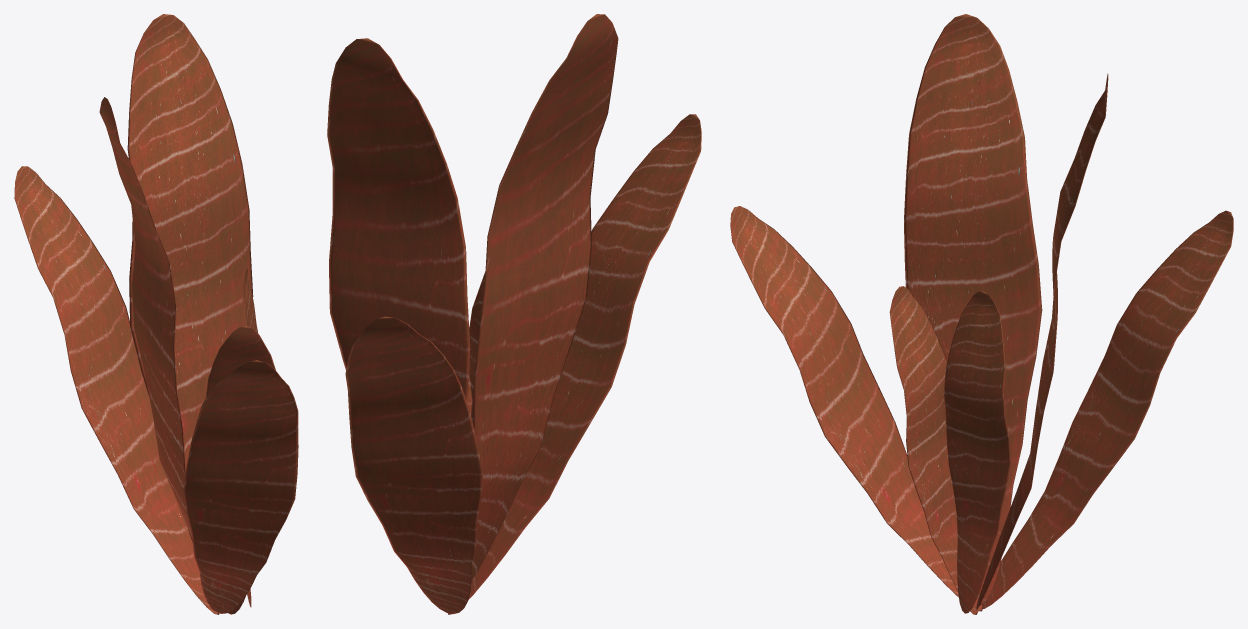
The model's file is Plant 3.fbx.
3 views of the same model, side by side, from view 1: azimuth 30°, elevation 25°; view 2: azimuth 150°, elevation 25°; view 3: azimuth 270°, elevation 25° (orthographic). The views are drawn at different scales.
Visible parts, largest first — view 1: pSphere2; view 2: pSphere2; view 3: pSphere2.
Boxes of the visible parts, box(x1,y1,x2,y2) form: pSphere2: box(14, 14, 298, 614); pSphere2: box(327, 14, 701, 614); pSphere2: box(730, 14, 1233, 614).
Size of the model in its own units: 7.69 by 21.01 by 17.75.
1 material, 1 textured.
